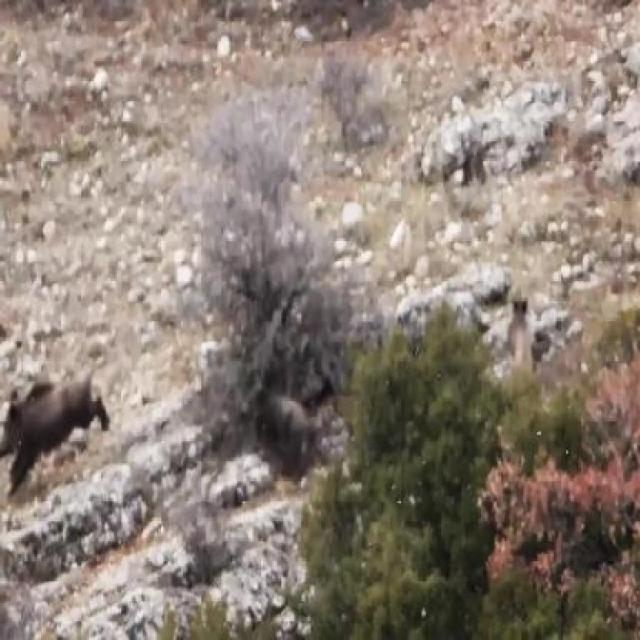pig: (6, 354, 126, 483)
